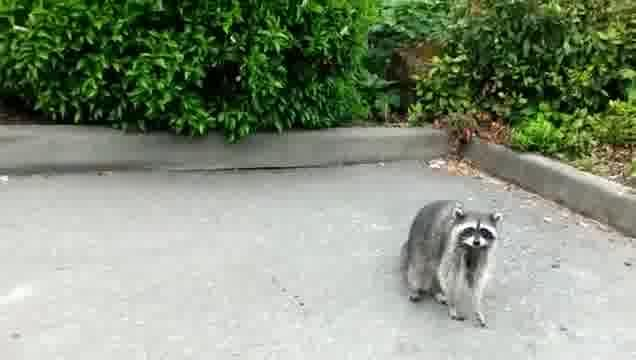raccoon: (399, 196, 504, 332)
